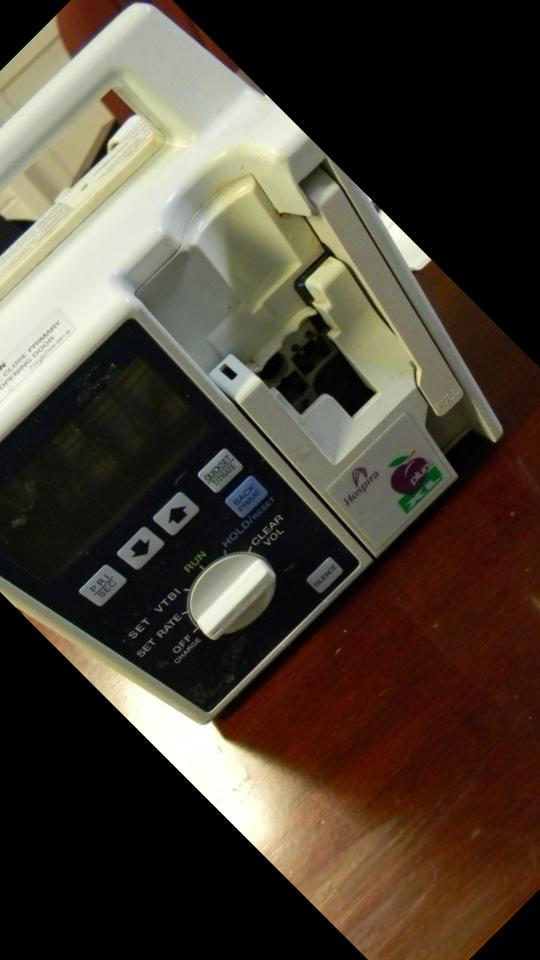plumxl1: (3, 15, 517, 718)
